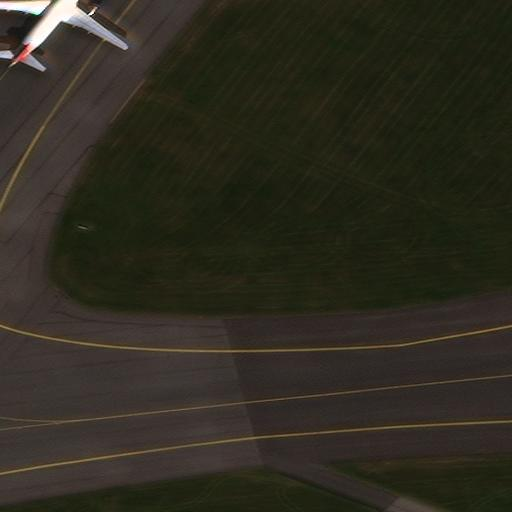Medium Civil Transport: (0, 0, 129, 69)
